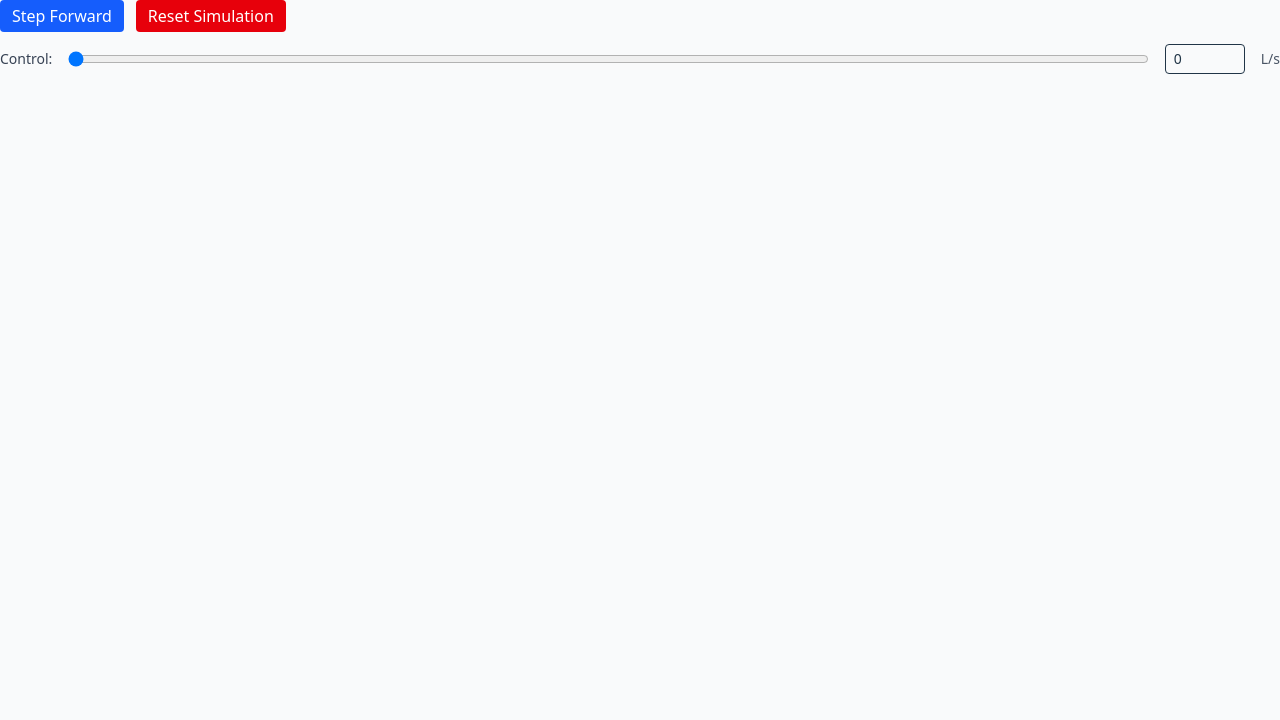
Scenario: SimulationControls › Reset Functionality › closes reset dialog when cancel is clicked
What coordinates should you click on to do the following:
click the button "Reset Simulation"
I would click on:
 (211, 16)
Its box is [136,0,286,32].
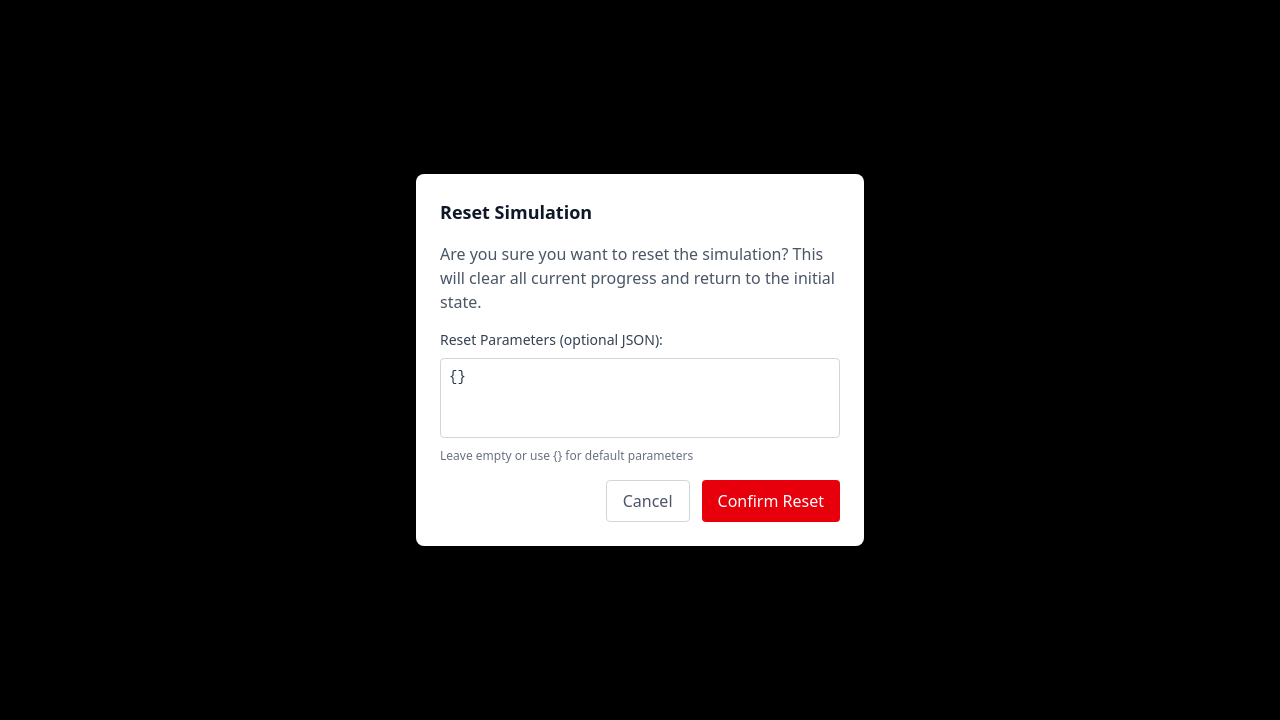
What coordinates should you click on to do the following:
click the button "Cancel"
I would click on:
 (648, 501)
Its box is [606,480,690,522].
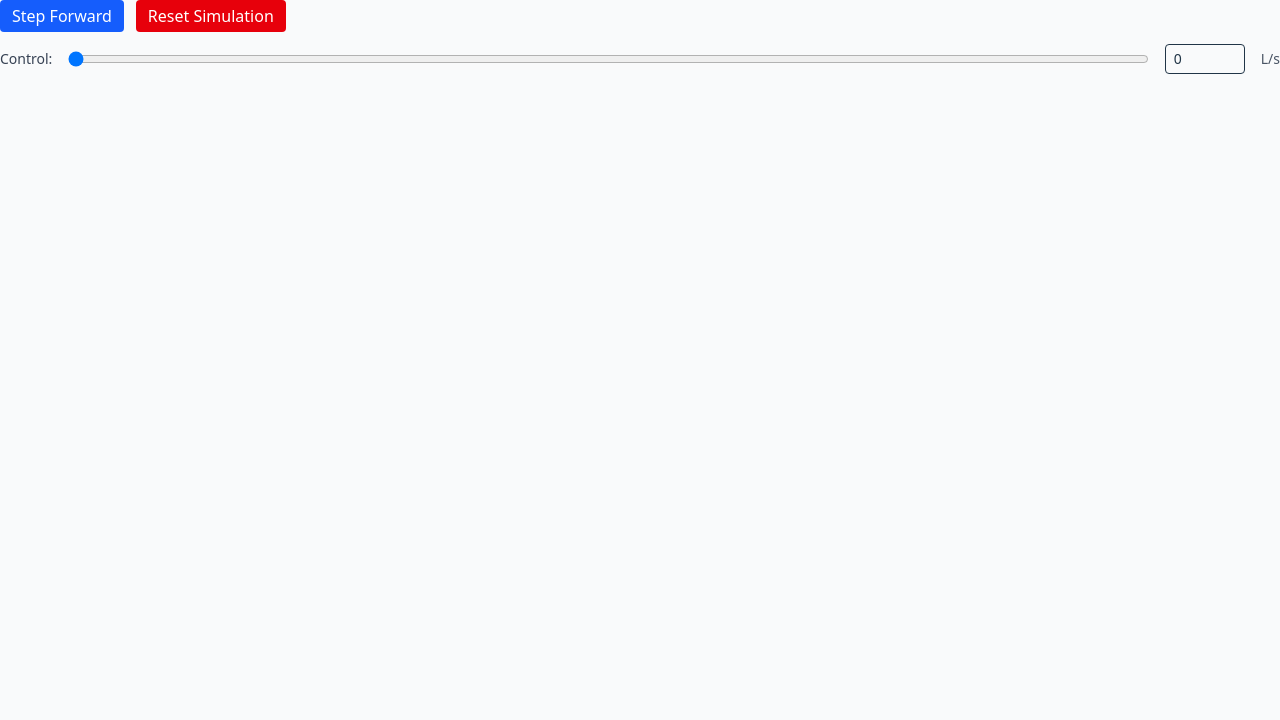
expect the text "Are you sure you want to reset" is gone: met
